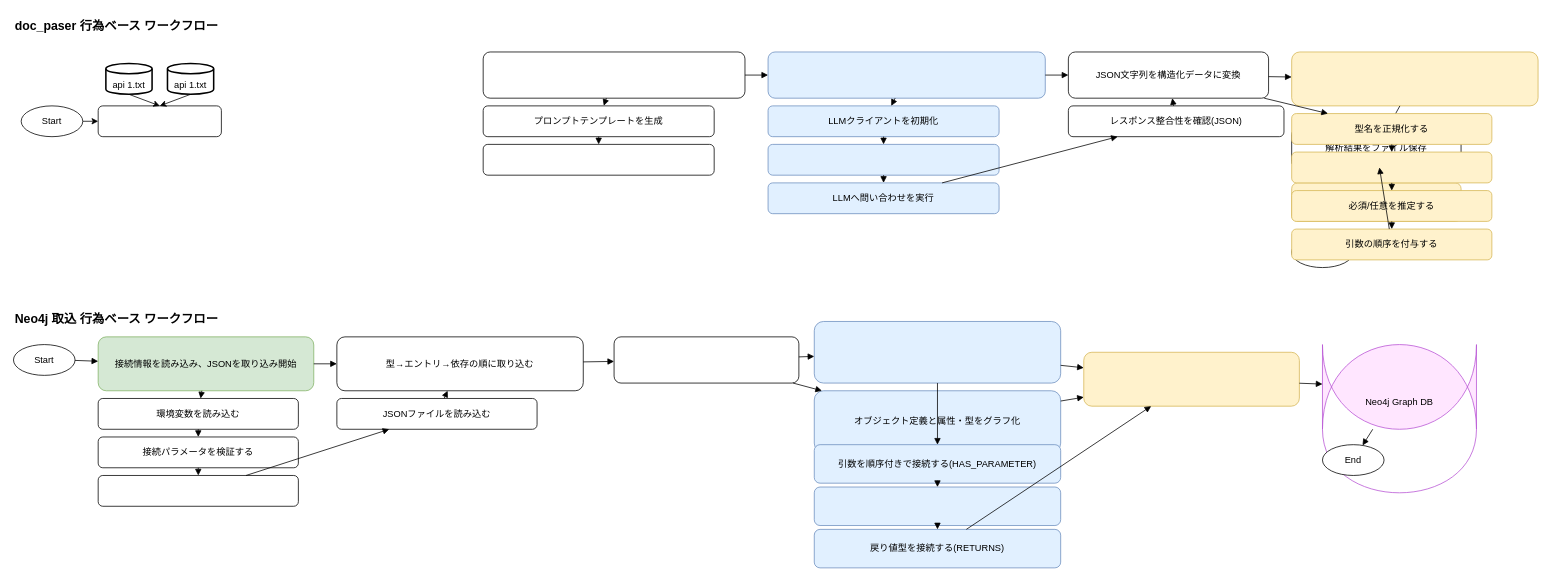
Some shapes in this 1552 by 581 pixel diagram are drawn without their labels. The shapes that lost their labels are listed below. From the top down, each one's box as (x1, y1, x2, y2) in pixels, then its label:
(482, 51, 745, 98): プロンプトとJSON仕様を準備
(767, 51, 1045, 98): LLMに解析を依頼しJSON出力を得る
(1291, 51, 1538, 106): 型名を正規化し配列/必須/順序を付与
(97, 105, 221, 137): API原文を連結して読み込む
(482, 144, 714, 175): JSON出力仕様(フォーマット)を準備
(767, 144, 999, 175): 原文/仕様をプロンプトへ埋め込む
(1291, 151, 1492, 183): 配列メタデータを付与する
(613, 336, 799, 383): 型(Type)ノードを作成/更新
(814, 321, 1061, 383): 関数・引数・戻り値・型をグラフ化
(1083, 352, 1299, 406): 戻り値オブジェクト経由の依存を接続
(97, 475, 298, 506): Neo4jドライバを作成する
(814, 486, 1061, 526): 型ノードを解決して接続する(HAS_TYPE)
